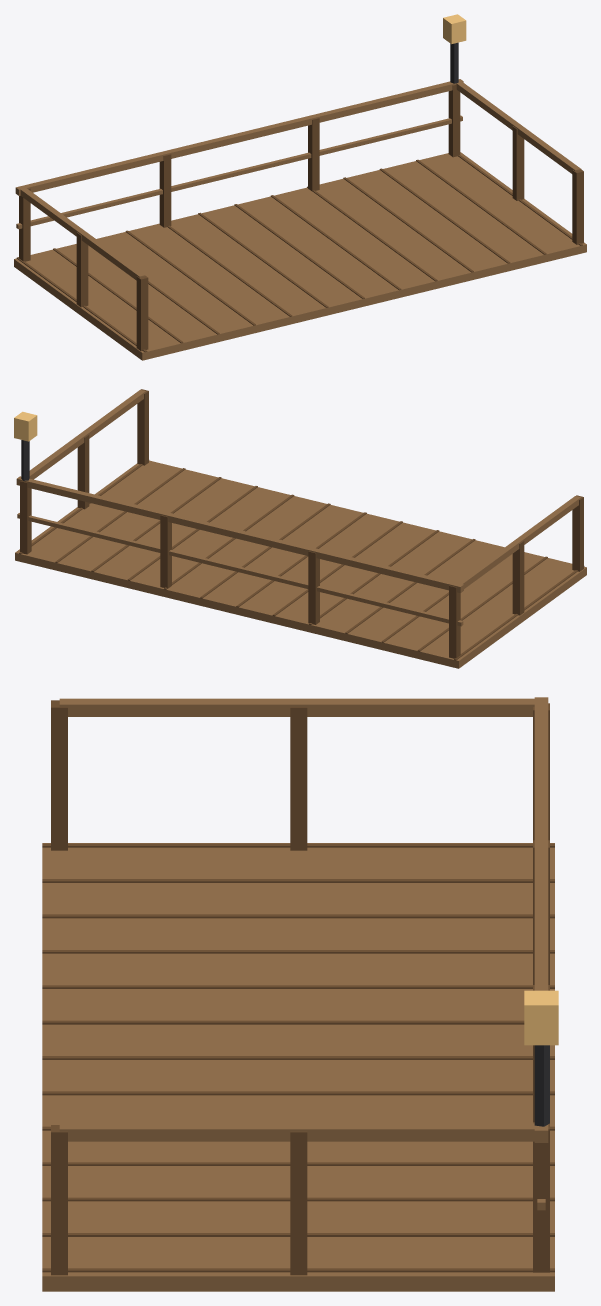
The model's file is boardwalk.glb.
3 renders of one model, top to bottom at view 1: azimuth 30°, elevation 25°; view 2: azimuth 150°, elevation 25°; view 3: azimuth 270°, elevation 25°, orthographic. The views are drawn at different scales.
Parts seen in each view (by area): view 1: boardwalk; view 2: boardwalk; view 3: boardwalk.
Part boxes in pixels (left/top/right/bottom): boardwalk: left=14, top=14, right=586, bottom=360; boardwalk: left=14, top=389, right=586, bottom=668; boardwalk: left=42, top=697, right=558, bottom=1291.
Bounding box in the file's own units: 6 × 1.85 × 3.02.
